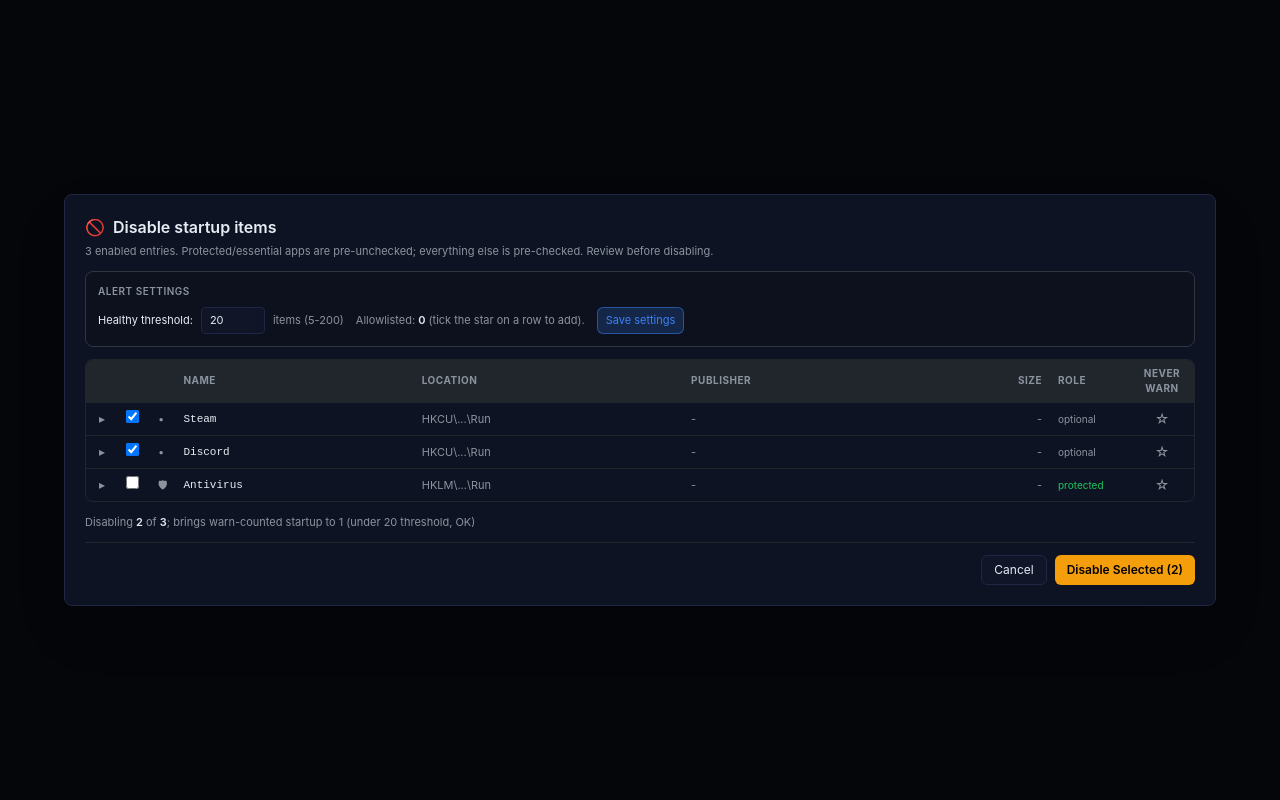
Scenario: <StartupPickerModal> v2.4.13 — threshold + allowlist › clicking a Never-warn star twice reverts to off state
What coordinates should you click on to do the following:
click the button named "Add Steam to allowlist"
I would click on:
 (1162, 419)
Its box is [1155,409,1169,429].
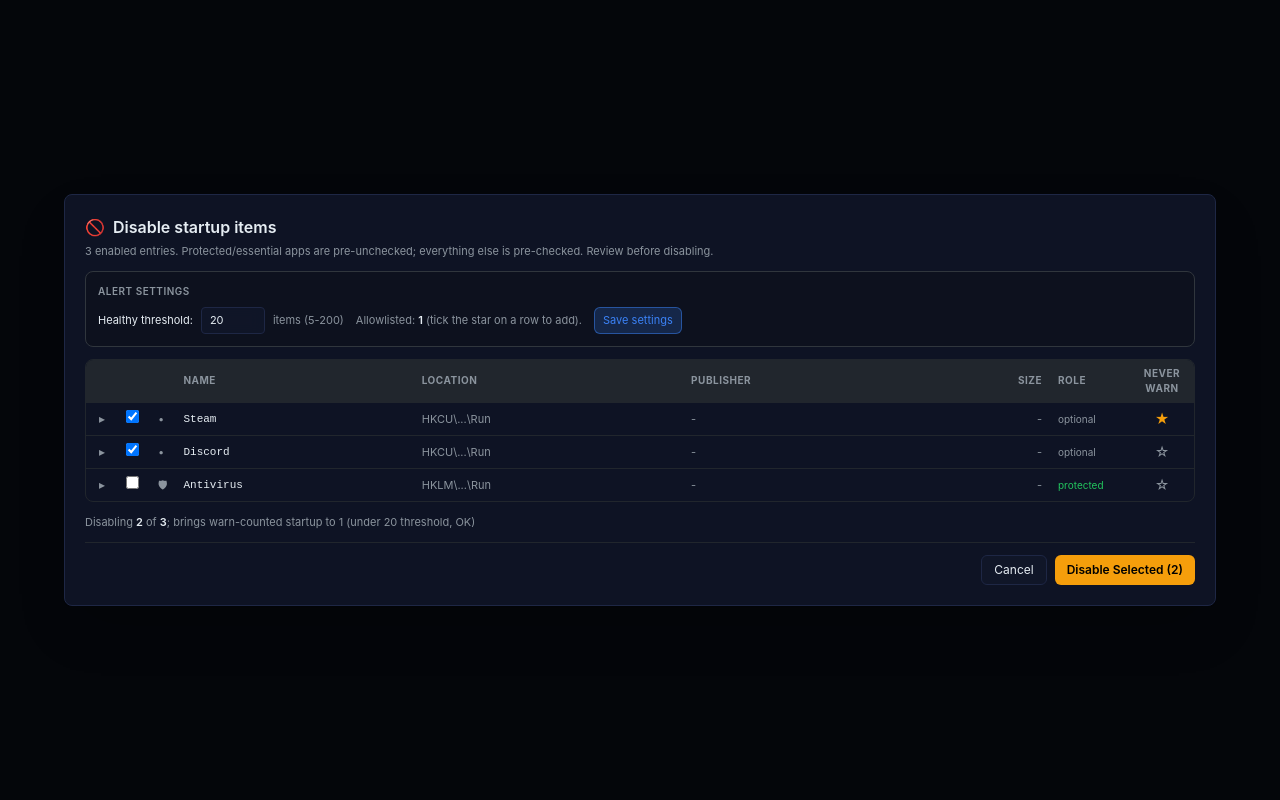
What coordinates should you click on to do the following:
click the button named "Remove Steam from allowlist"
I would click on:
 (1162, 419)
Its box is [1155,409,1169,429].
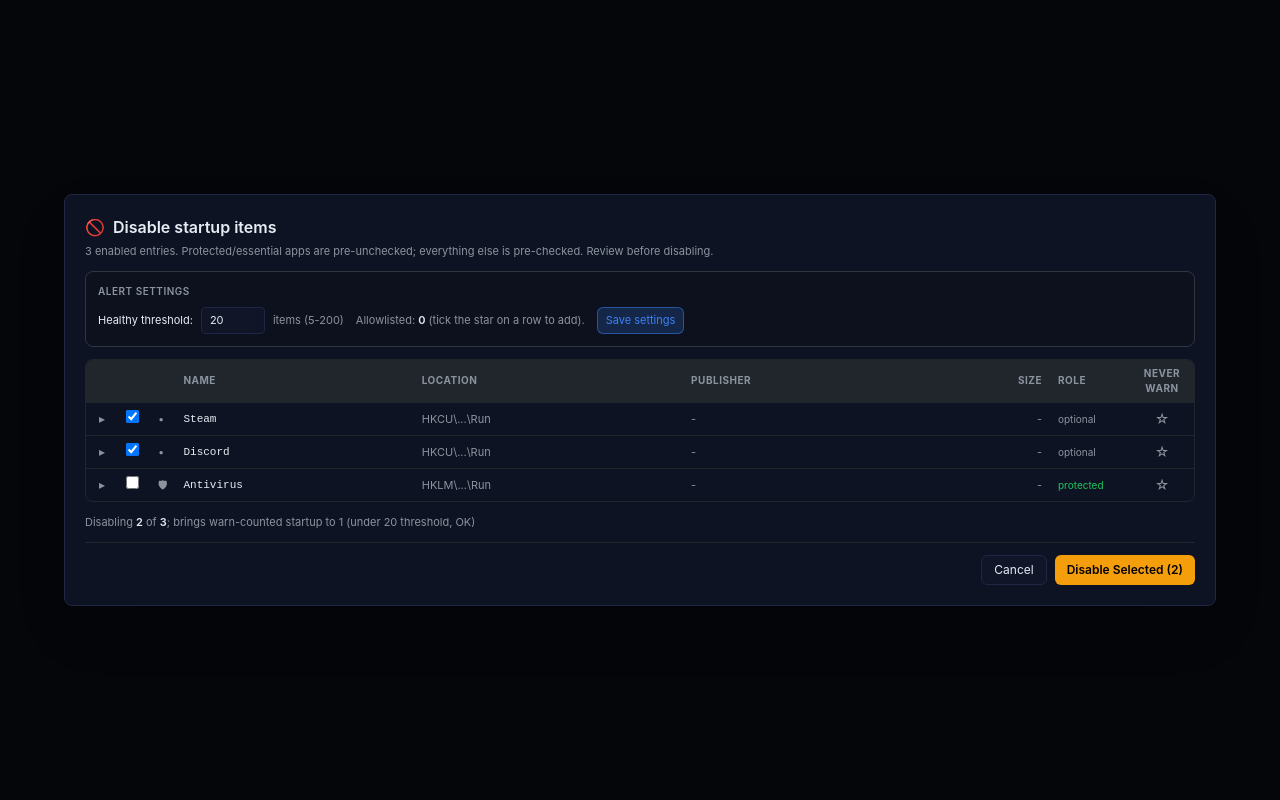
Expected: the button named "Add Steam to allowlist" is shown, [1155,409,1169,429]
